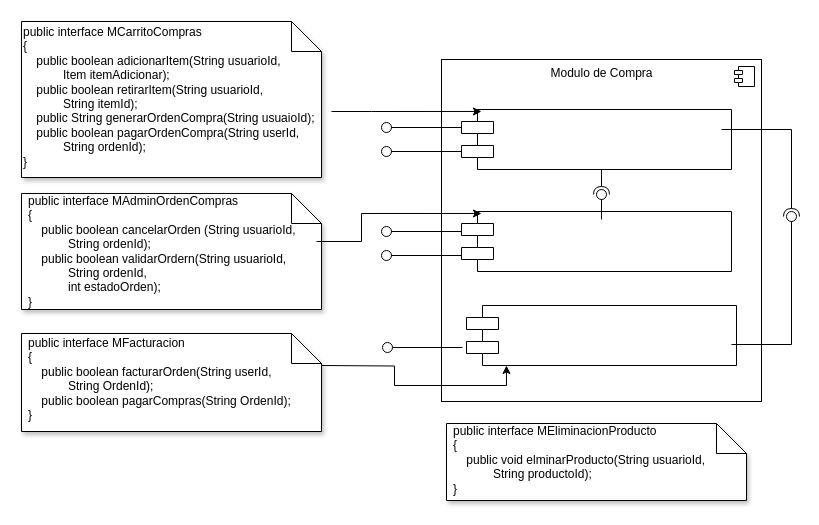
The diagram is 819 pixels wide and 525 high, and some of its shapes have lost their labels. Here are the shapes that lost their labels. From the top down, the centre of each, then its label:
At point (596, 139): "Componente de Carrito de Compras".
At point (596, 241): "Componente Admin Orden Compra".
At point (601, 335): "Componente de facturacion".
